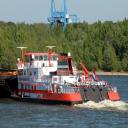tugboat: (11, 46, 123, 110)
